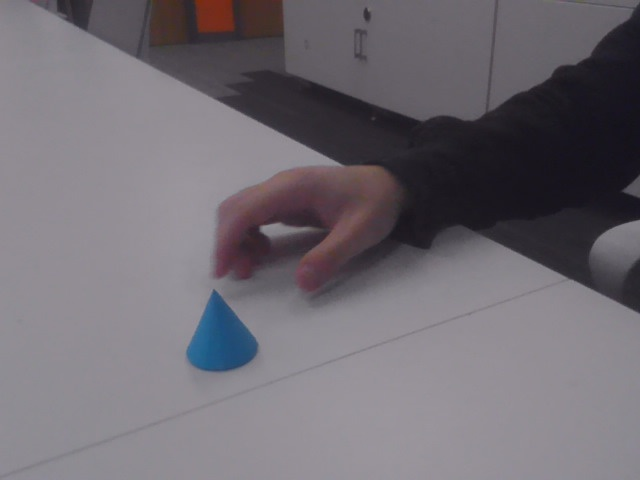cone: (186, 289, 259, 372)
